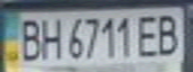1: (115, 12, 136, 59), (100, 14, 118, 58)
6: (63, 13, 84, 60)
7: (81, 13, 103, 60)
B: (151, 11, 184, 56), (15, 16, 45, 62)
E: (133, 11, 163, 57)
H: (36, 14, 63, 61)
